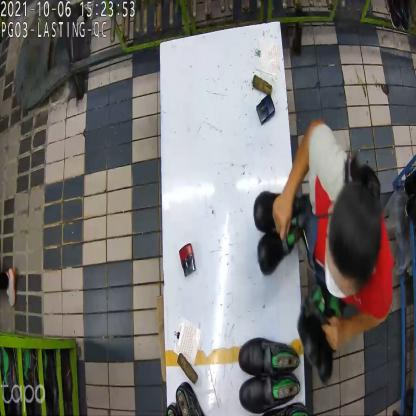shoes: (239, 334, 301, 415), (253, 187, 306, 268), (297, 287, 335, 386)
stamp: (176, 236, 197, 276), (254, 92, 275, 128)
